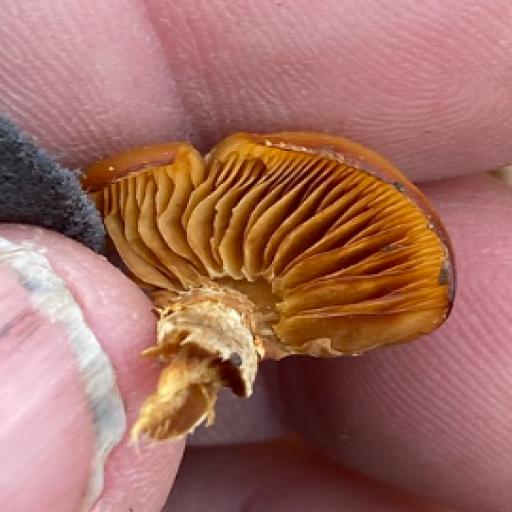Funeral Bell: (65, 128, 461, 411)
